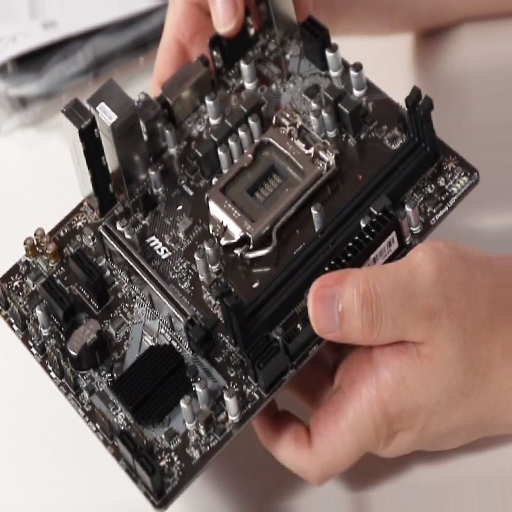CPU: (206, 111, 339, 246)
GPU: (97, 219, 215, 356)
MOTHERBOARD: (1, 11, 479, 502)
RAM: (221, 90, 442, 351)
